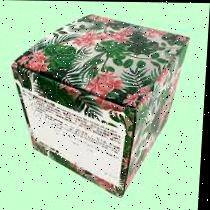cube: (6, 11, 191, 197)
